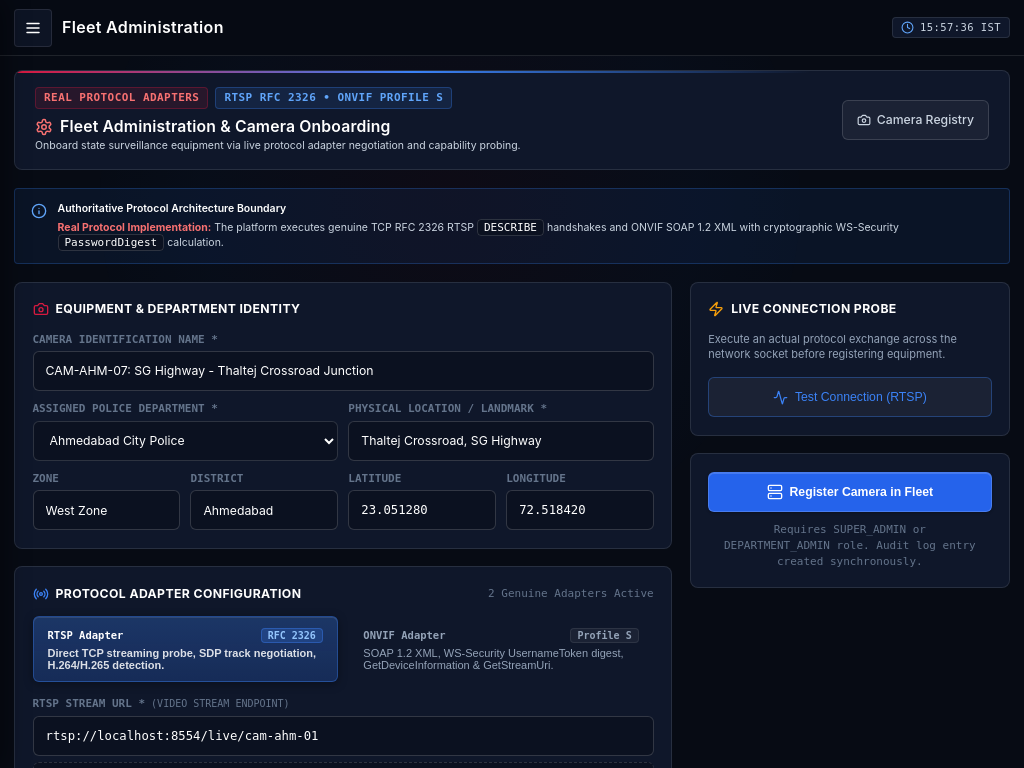
Test: Fleet Administration & Camera Onboarding UI (Phase 4F) › switches between RTSP and ONVIF protocol configurations
Expected: the text "RTSP Adapter" is shown, [48,629,123,641]
Expected: the text "ONVIF Adapter" is shown, [363,629,446,641]
Click the button "ONVIF Adapter" at (501, 649), box [348,616,654,682]
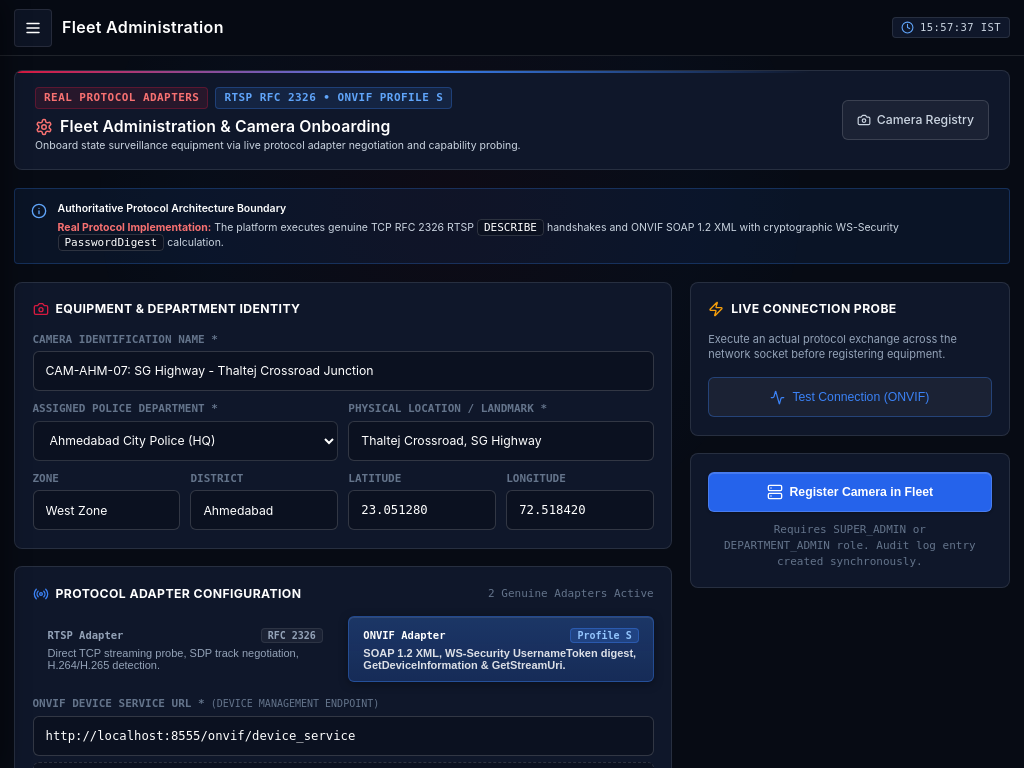
Result: the text "ONVIF Device Service URL *(Device Management Endpoint)" is shown at [32,697,379,710]
Result: the field showing "http://localhost:8555/onvif/device_service" below "ONVIF Device Service URL *" is shown at [32,716,654,756]
